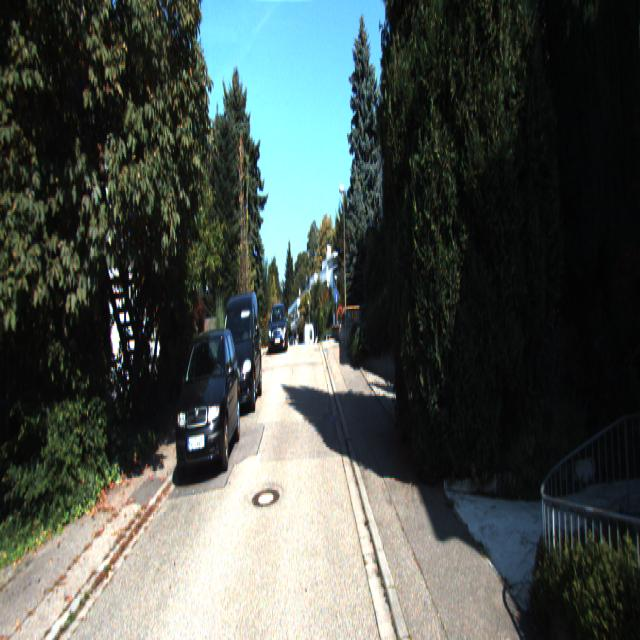Car: (174, 328, 241, 483), (268, 303, 288, 355)
DontCare: (320, 326, 339, 348), (304, 314, 314, 348)
Van: (217, 288, 263, 416)
